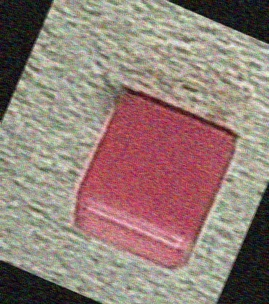red_cube: (70, 85, 243, 273)
